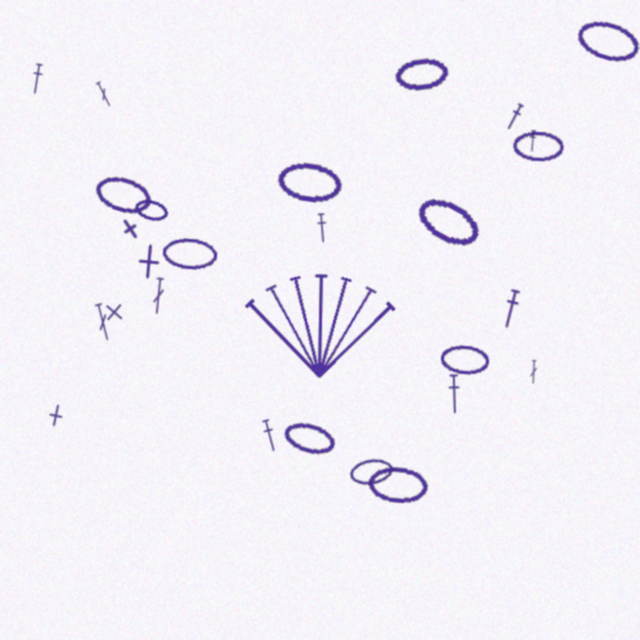chain: (410, 189, 487, 256), (573, 14, 640, 68), (275, 158, 345, 206), (91, 170, 155, 219), (366, 464, 429, 505), (280, 417, 338, 460), (393, 55, 451, 94), (161, 236, 218, 272), (512, 130, 565, 162), (439, 343, 490, 376), (348, 456, 395, 487), (132, 196, 171, 225)
double: (92, 302, 114, 342), (151, 277, 166, 315), (94, 80, 114, 108), (529, 360, 538, 384)
fan: (239, 258, 401, 381)
half_double: (499, 288, 523, 330), (259, 418, 280, 453), (503, 102, 526, 132), (446, 374, 462, 414), (29, 63, 45, 95), (315, 213, 329, 243), (528, 130, 537, 152)
single: (129, 242, 168, 281), (114, 212, 147, 245), (42, 402, 69, 429), (103, 301, 125, 323)
